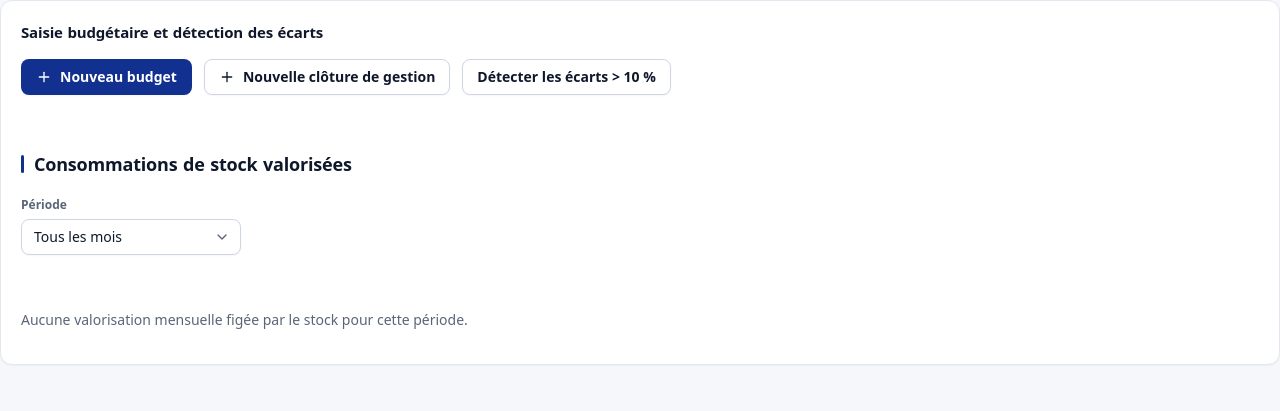
Scenario: M11 — saisie budgétaire › affiche le résultat de la détection des écarts
Click the button "Détecter les écarts > 10 %": (567, 77) top-left (462, 59), bottom-right (671, 95)
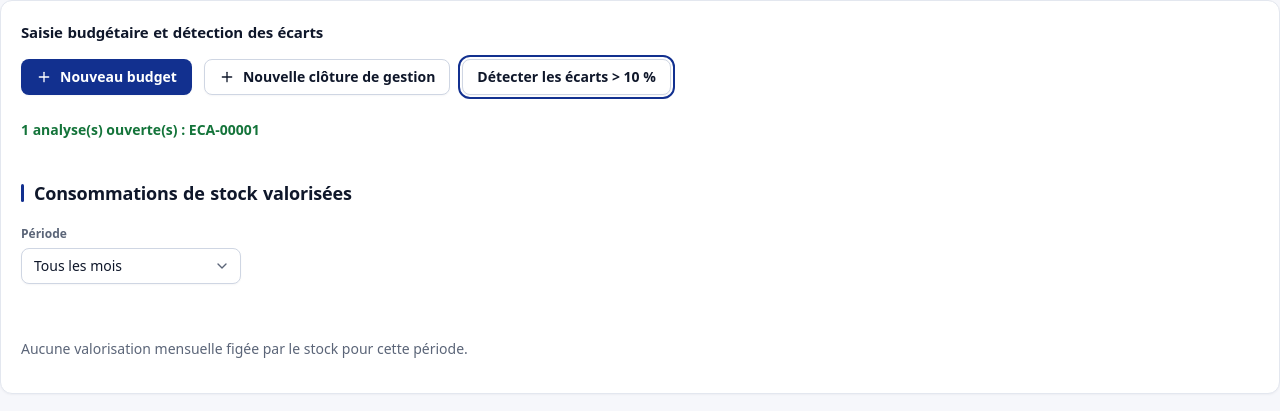
Check: the text "1 analyse(s) ouverte(s) : ECA-00001" is shown, box top-left (21, 120), bottom-right (260, 139)
